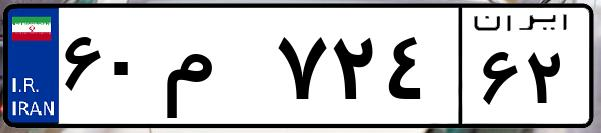0: (110, 28, 158, 98)
2: (330, 28, 385, 110), (525, 38, 570, 115)
4: (385, 28, 445, 110)
6: (57, 26, 110, 100), (475, 38, 525, 113)
7: (270, 28, 330, 110)
م: (158, 20, 270, 120)
